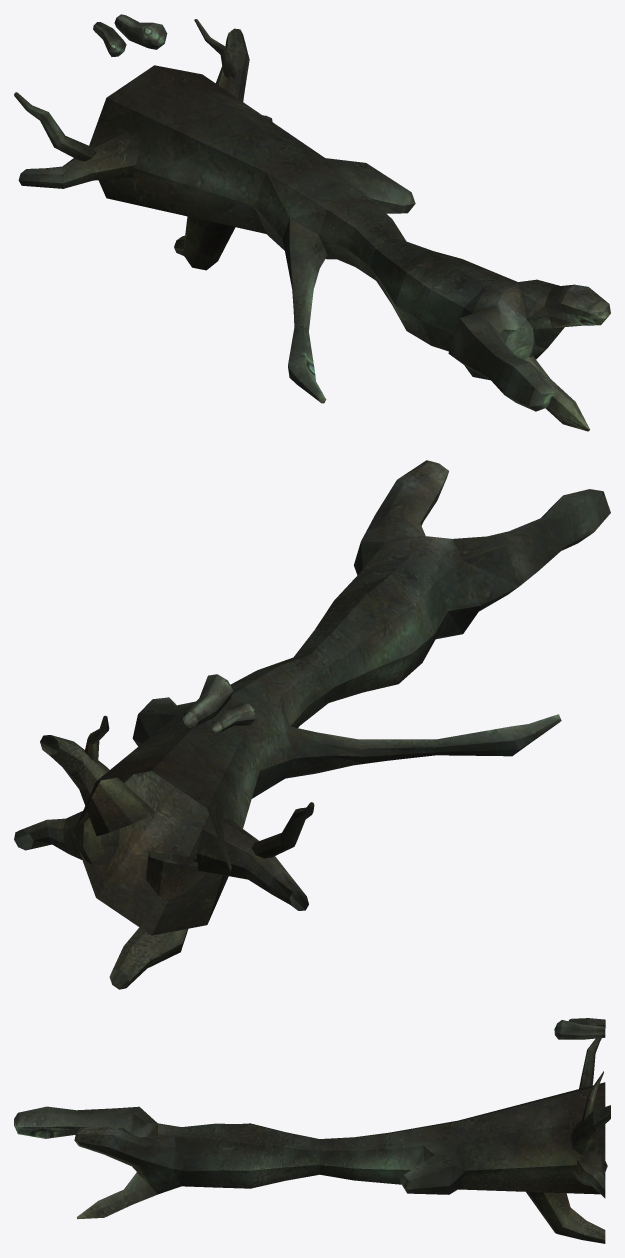
File: huodong_fuben_662_zhiwu02.obj
3 renders of one model, top to bottom at view 1: azimuth 30°, elevation 25°; view 2: azimuth 150°, elevation 25°; view 3: azimuth 270°, elevation 25°, orthographic. The views are drawn at different scales.
Visible parts, largest first — view 1: huodong_fuben_662_zhiwu02; view 2: huodong_fuben_662_zhiwu02; view 3: huodong_fuben_662_zhiwu02.
Part boxes in pixels (box(x1,y1,x2,y2)): huodong_fuben_662_zhiwu02: box(14, 14, 610, 431); huodong_fuben_662_zhiwu02: box(14, 460, 610, 989); huodong_fuben_662_zhiwu02: box(14, 1018, 610, 1243).
Bounding box in the file's own units: 227 × 213 × 569.
1 material, 1 textured.
